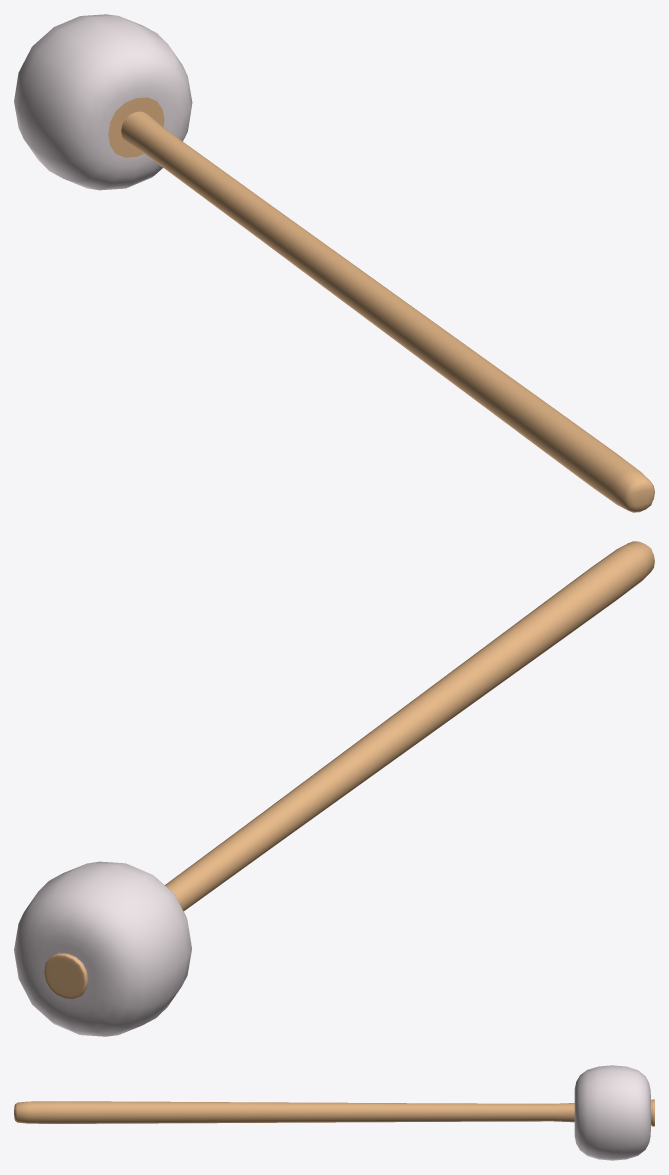
File: bigDrumStick (2).fbx
3 views of the same model, one above another, from view 1: azimuth 30°, elevation 25°; view 2: azimuth 150°, elevation 25°; view 3: azimuth 270°, elevation 25° (orthographic). The views are drawn at different scales.
Parts seen in each view (by area): view 1: bigDrumStick; view 2: bigDrumStick; view 3: bigDrumStick.
Part boxes in pixels (bbox=[...]): bigDrumStick: bbox=[14, 14, 654, 512]; bigDrumStick: bbox=[14, 541, 654, 1036]; bigDrumStick: bbox=[14, 1065, 654, 1160].
Bounding box in the file's own units: 4.76 × 4.76 × 32.43.
